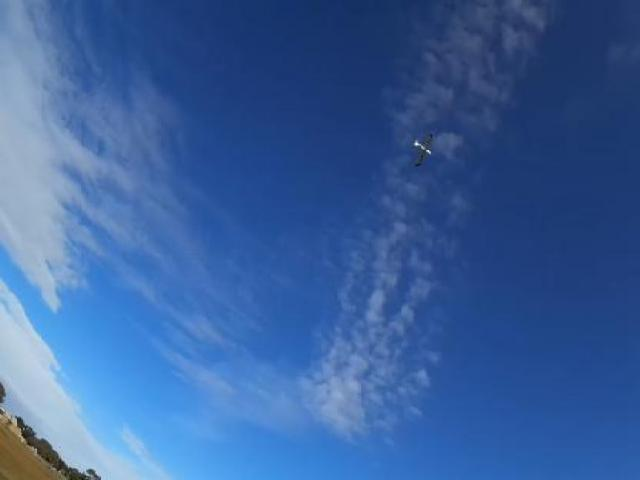uav: (406, 123, 439, 171)
